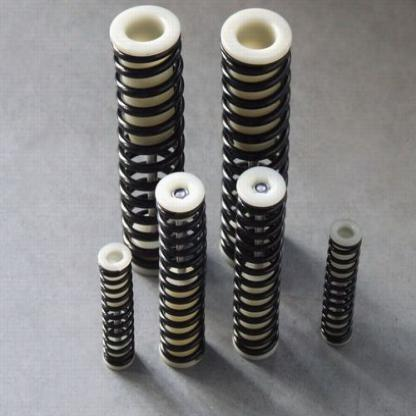FOD: (108, 3, 188, 278), (229, 166, 287, 364), (154, 171, 210, 370), (318, 219, 365, 350), (96, 243, 136, 372)
